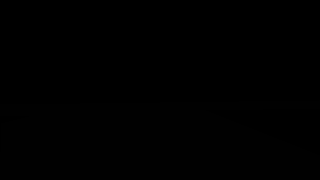turn_left: (214, 36, 241, 62)
